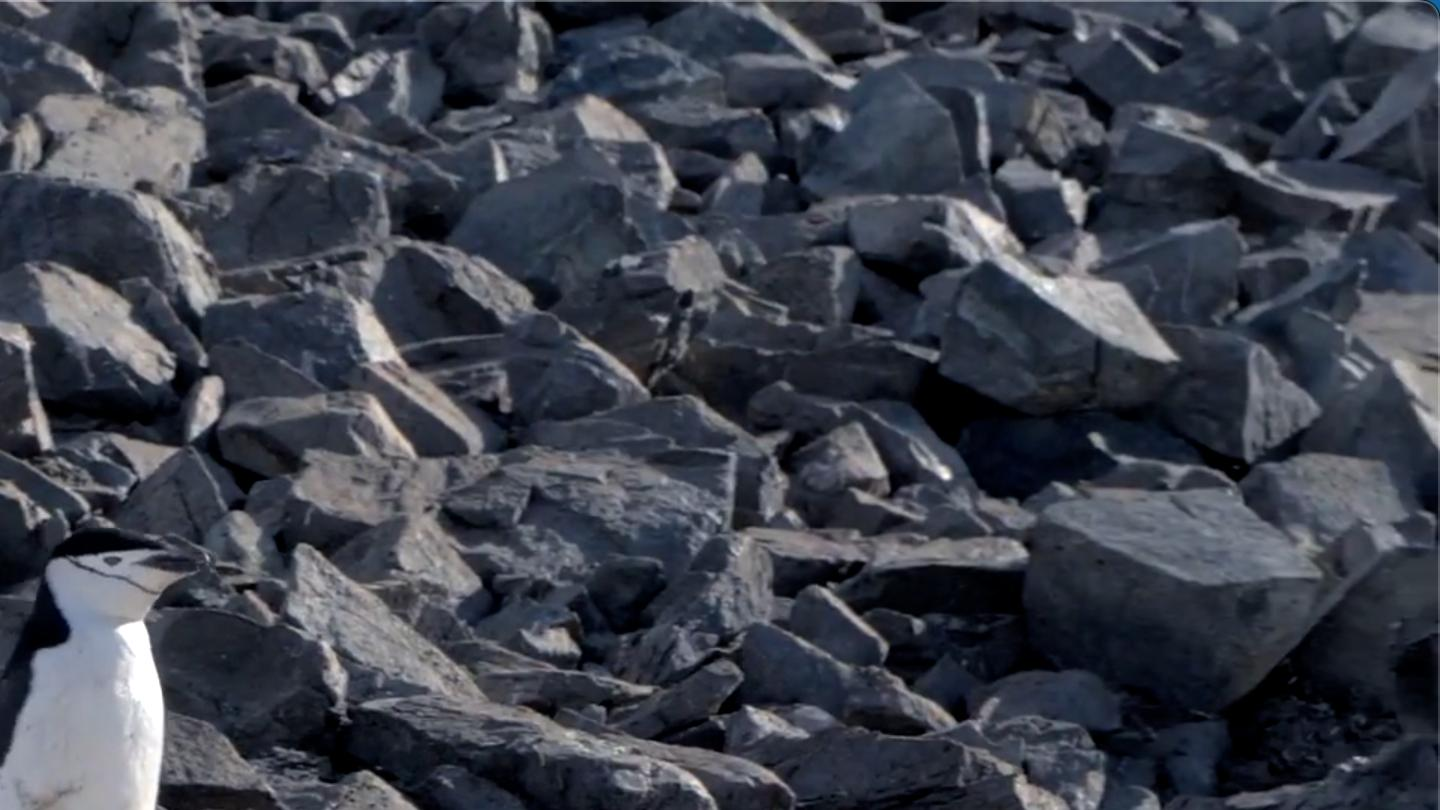Chinstrap Penguin: (0, 520, 221, 810)
